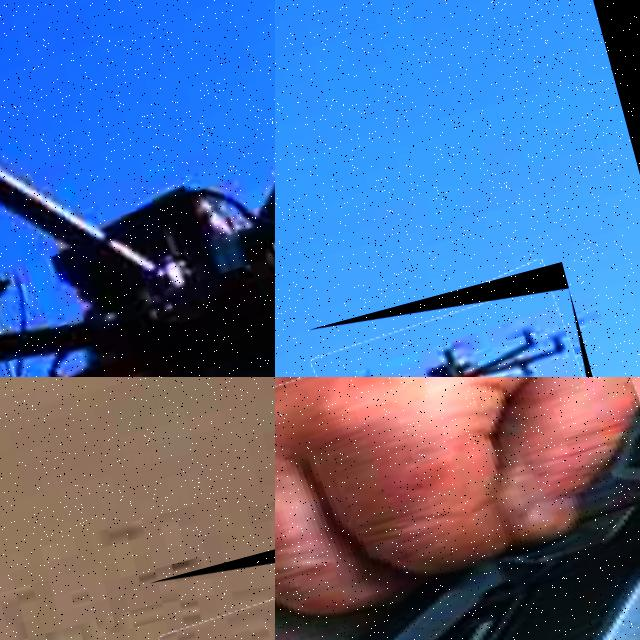0: (0, 0, 275, 377), (307, 261, 608, 377), (148, 461, 275, 640)
drone: (275, 377, 640, 640)
